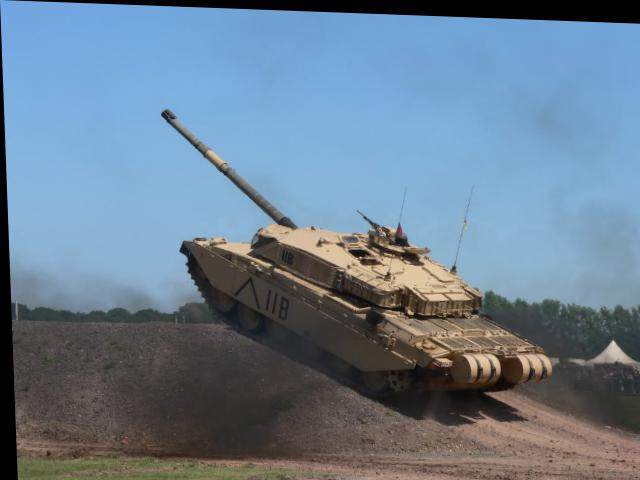tank: (166, 194, 552, 399)
